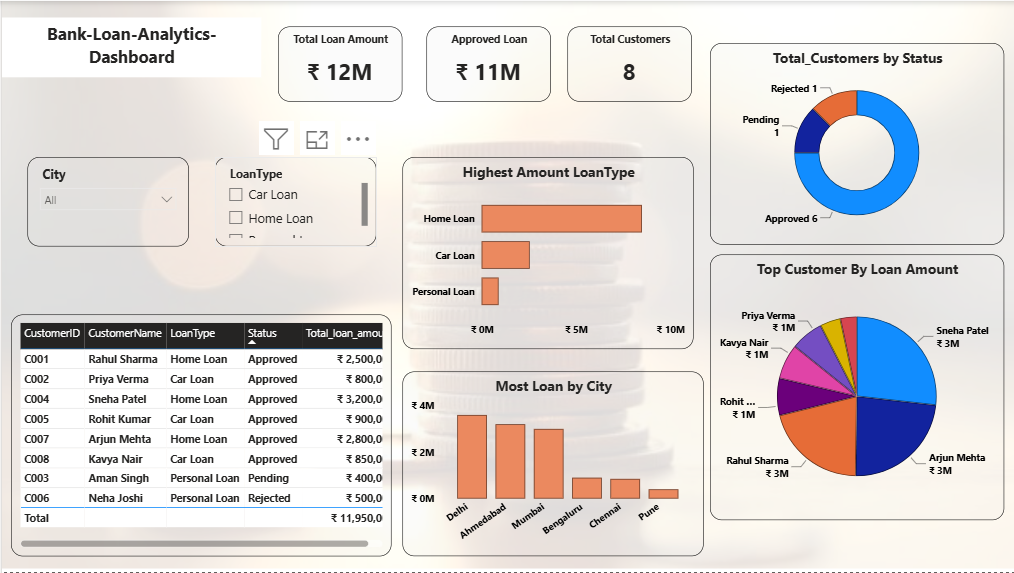

What the dashboard file says about the page in this screenshot:
{"tool":"powerbi","page":{"name":"Page 1","canvas":[1280,720],"ordinal":0},"visuals":[{"type":"cardVisual","title":"Total Loan Amount","fields":{"Data":["bank_loan.Total_loan_amount"]},"box":[347.2,33.1,156.6,94.3],"z":0},{"type":"cardVisual","title":"Approved Loan","fields":{"Data":["bank_loan.Approved_loan"]},"box":[534,33.1,156.6,94.3],"z":1000},{"type":"cardVisual","title":"Total Customers","fields":{"Data":["bank_loan_customer.Total_Customers"]},"box":[712.9,33.1,156.6,94.3],"z":2000},{"type":"barChart","title":"Highest Amount LoanType","fields":{"Category":["bank_loan.LoanType"],"Y":["bank_loan.Total_loan_amount"]},"box":[503.8,197.4,366.7,242.2],"z":3000},{"type":"textbox","box":[0,20.4,268.4,47.7],"z":4000},{"type":"columnChart","title":"Most Loan by City","fields":{"Category":["bank_loan_customer.City"],"Y":["bank_loan.Total_loan_amount"]},"box":[503.8,466.9,379.3,232.5],"z":5000},{"type":"pieChart","title":"Top  Customer By Loan Amount","fields":{"Category":["bank_loan_customer.CustomerName"],"Y":["bank_loan.Total_loan_amount"]},"box":[891.9,319,370.6,334.6],"z":6000},{"type":"donutChart","fields":{"Category":["bank_loan.Status"],"Y":["bank_loan_customer.Total_Customers"]},"box":[891.9,53.5,370.6,253.9],"z":7000},{"type":"tableEx","fields":{"Values":["bank_loan_customer.CustomerID","bank_loan_customer.CustomerName","bank_loan.LoanType","bank_loan.Status","bank_loan.Total_loan_amount"]},"box":[10.7,394.9,479.5,304.4],"z":8000},{"type":"slicer","fields":{"Values":["bank_loan.LoanType"]},"box":[268.4,197.4,203.3,112.8],"z":9000},{"type":"slicer","fields":{"Values":["bank_loan_customer.City"]},"box":[32.1,197.4,203.3,112.8],"z":10000}]}

Visuals, with their boxes in screenshot pixels (x1, y1, x2, y2), scaled from the page's 1280x720 canvas onto the 1014x573 screenshot:
"Total Loan Amount" cardVisual: x1=275, y1=26, x2=399, y2=101
"Approved Loan" cardVisual: x1=423, y1=26, x2=547, y2=101
"Total Customers" cardVisual: x1=565, y1=26, x2=689, y2=101
"Highest Amount LoanType" barChart: x1=399, y1=157, x2=690, y2=350
textbox: x1=0, y1=16, x2=213, y2=54
"Most Loan by City" columnChart: x1=399, y1=372, x2=700, y2=557
"Top  Customer By Loan Amount" pieChart: x1=707, y1=254, x2=1000, y2=520
donutChart - bank_loan.Status x bank_loan_customer.Total_Customers: x1=707, y1=43, x2=1000, y2=245
tableEx - bank_loan_customer.CustomerID x bank_loan_customer.CustomerName: x1=8, y1=314, x2=388, y2=557
slicer - bank_loan.LoanType: x1=213, y1=157, x2=374, y2=247
slicer - bank_loan_customer.City: x1=25, y1=157, x2=186, y2=247
